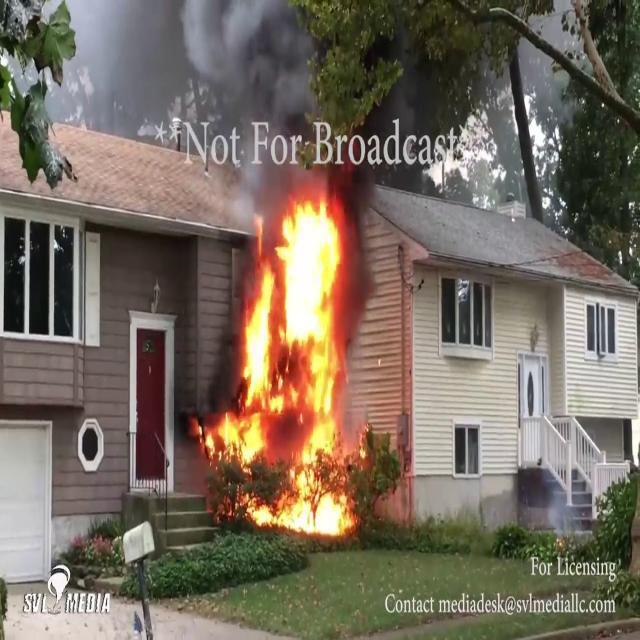Fire: (206, 188, 362, 538)
Smoke: (216, 1, 322, 211)
